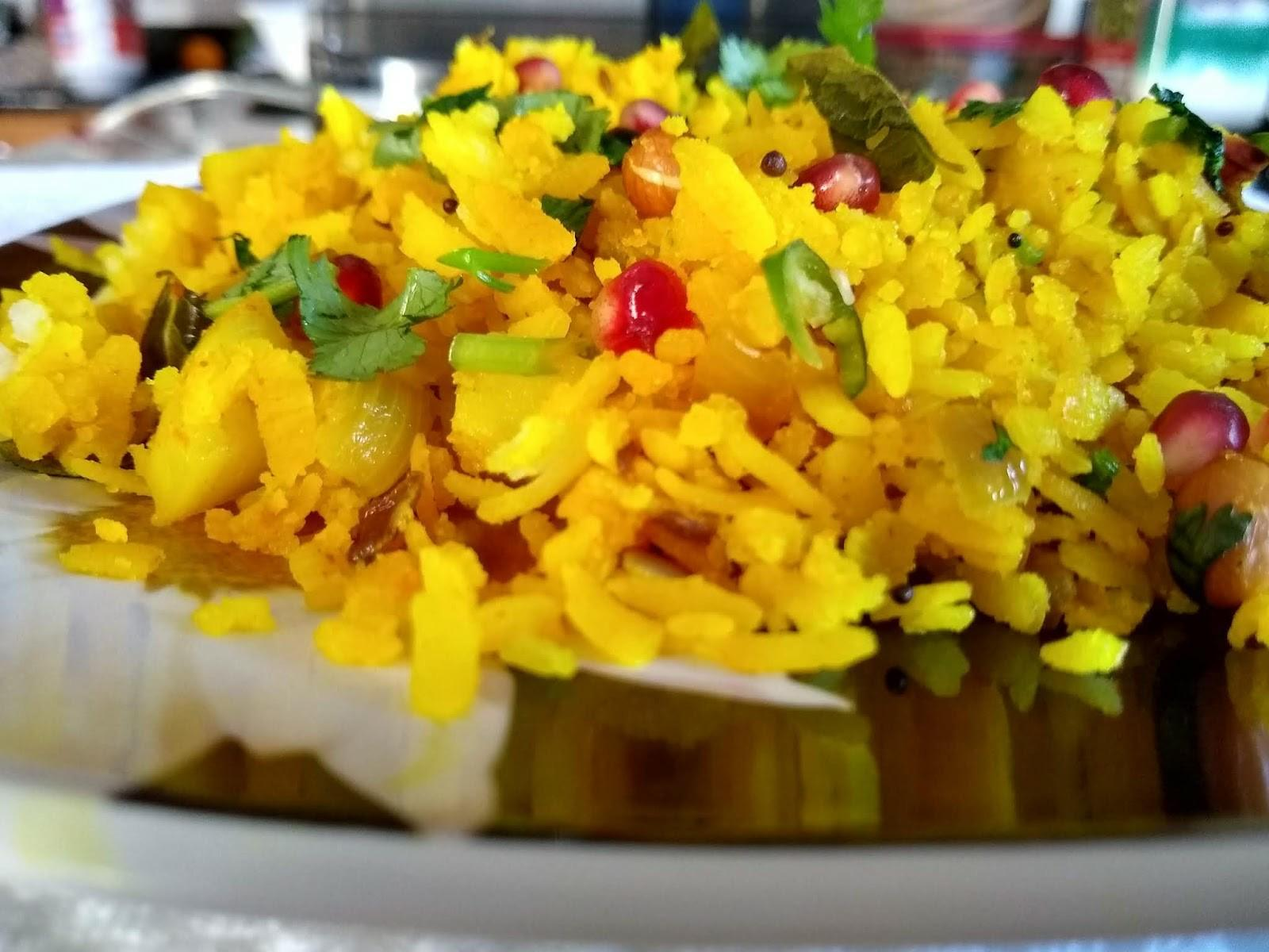Poha: (0, 2, 1269, 724)
